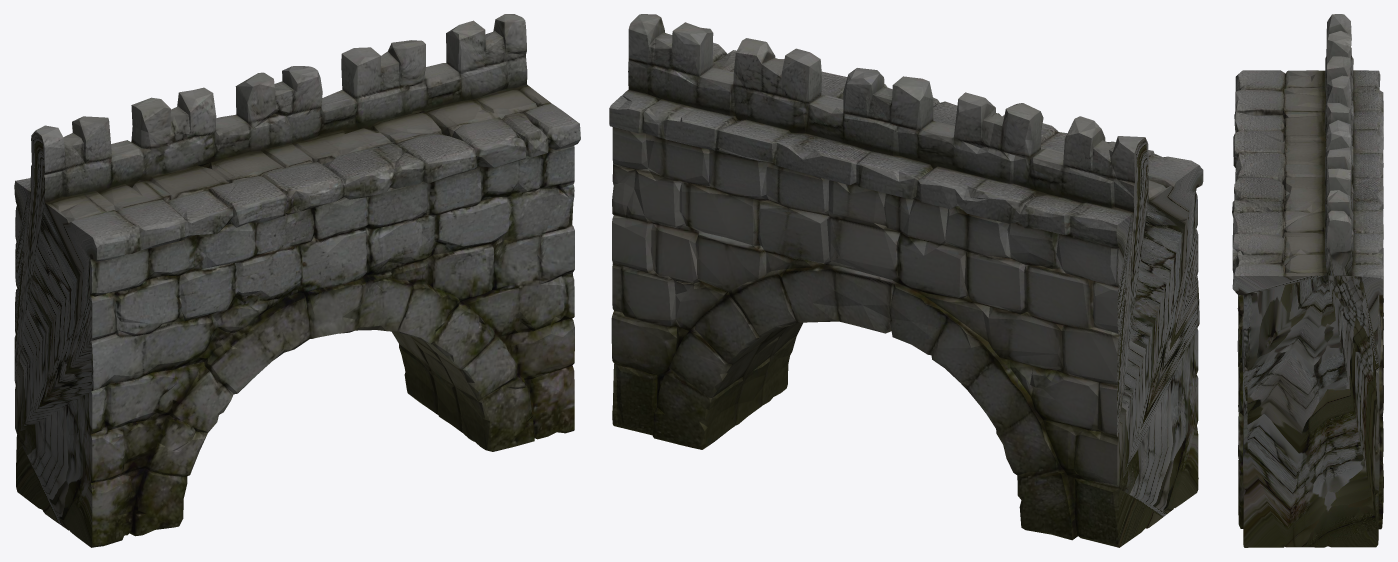
Rendered from bld_wall_watertunnel_a_LOD0.glb.
The picture shows the model from 3 angles, left to right: view 1: azimuth 30°, elevation 25°; view 2: azimuth 150°, elevation 25°; view 3: azimuth 270°, elevation 25°; orthographic projection. The views are drawn at different scales.
Parts seen in each view (by area): view 1: geometry_0; view 2: geometry_0; view 3: geometry_0.
Boxes of the visible parts, x1=… form: geometry_0: x1=14, y1=14, x2=580, y2=547; geometry_0: x1=609, y1=14, x2=1203, y2=547; geometry_0: x1=1232, y1=14, x2=1383, y2=547.
Bounding box in the file's own units: 8 × 6 × 2.5.
Materials: 1 (1 with a texture image).
